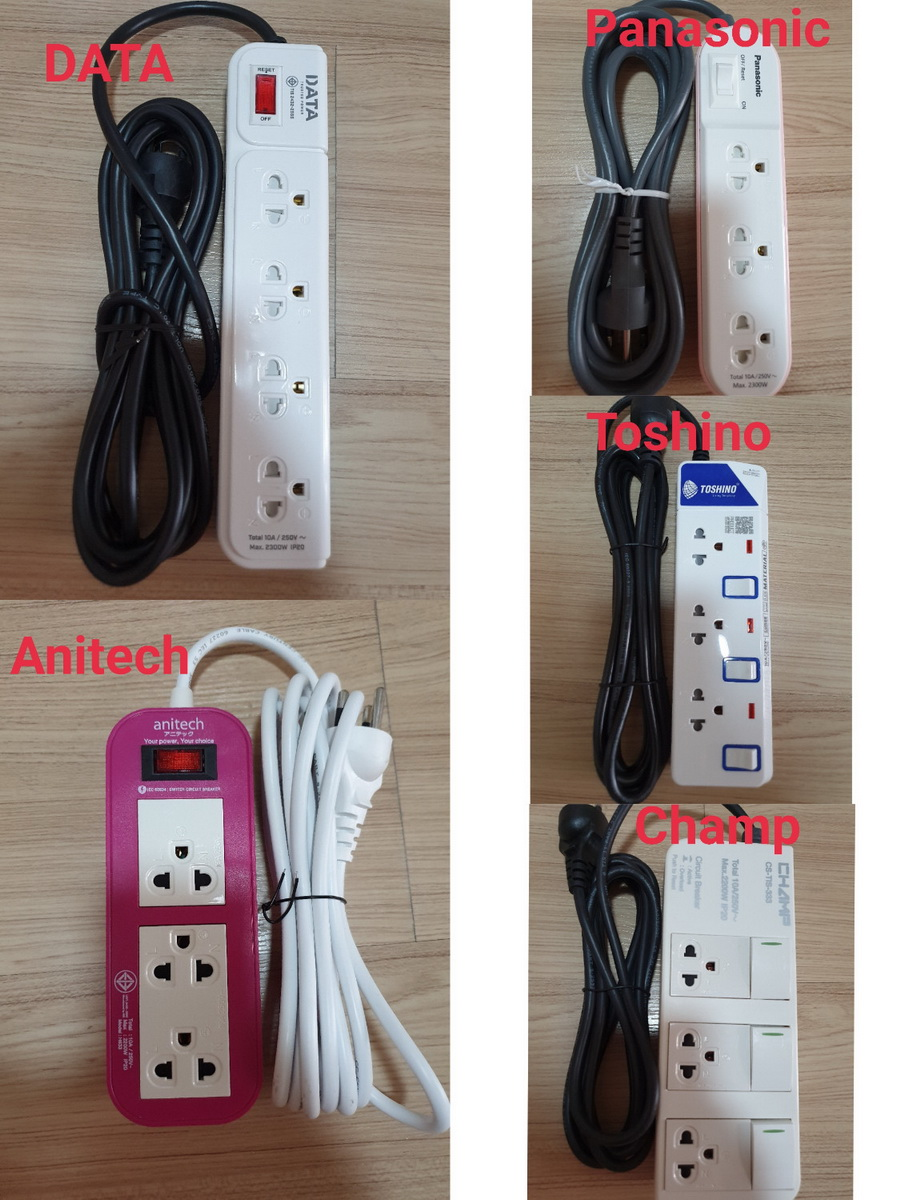Three_eye_plug: (94, 701, 269, 1133), (214, 30, 343, 576), (650, 830, 814, 1200), (659, 451, 789, 795), (684, 34, 803, 400)
